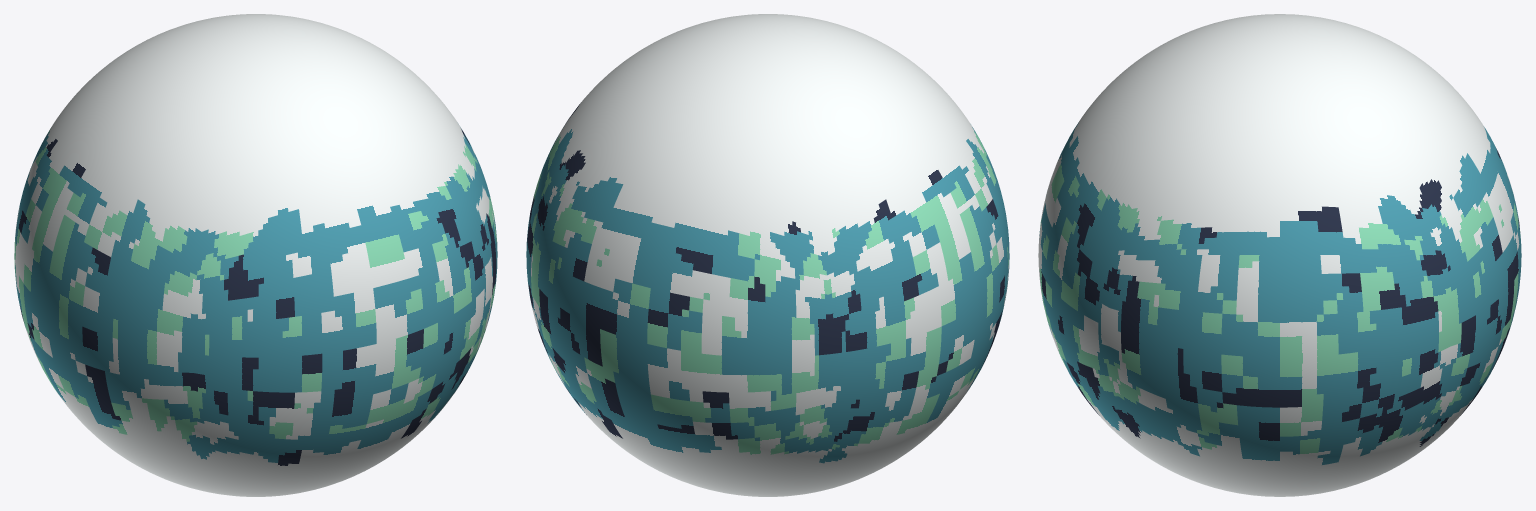
The model's file is ice.glb.
3 renders of one model, left to right at view 1: azimuth 30°, elevation 25°; view 2: azimuth 150°, elevation 25°; view 3: azimuth 270°, elevation 25°, orthographic.
Parts seen in each view (by area): view 1: Surface; view 2: Surface; view 3: Surface.
Boxes of the visible parts, box(x1,y1,x2,y2) form: Surface: box(14, 14, 497, 496); Surface: box(526, 14, 1009, 496); Surface: box(1038, 14, 1521, 496).
Size of the model in its own units: 2 by 2 by 2.
6 materials, 6 textured.
